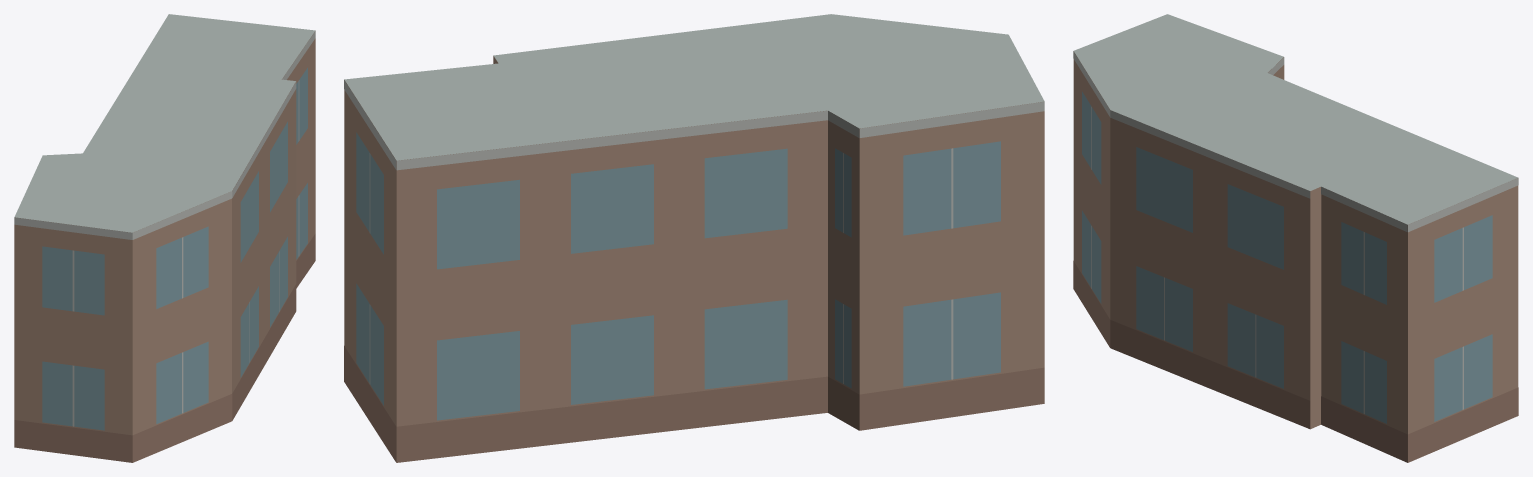
The model's file is survey-upis-32509280.glb.
3 renders of one model, left to right at view 1: azimuth 30°, elevation 25°; view 2: azimuth 150°, elevation 25°; view 3: azimuth 270°, elevation 25°, orthographic. The views are drawn at different scales.
Visible parts, largest first — view 1: survey-upis-32509280.tmp; view 2: survey-upis-32509280.tmp; view 3: survey-upis-32509280.tmp.
Boxes of the visible parts, left/top/right/bottom form: survey-upis-32509280.tmp: left=14, top=14, right=315, bottom=462; survey-upis-32509280.tmp: left=344, top=14, right=1044, bottom=462; survey-upis-32509280.tmp: left=1073, top=14, right=1518, bottom=462.
Size of the model in its own units: 14.43 by 7.6 by 12.88.
